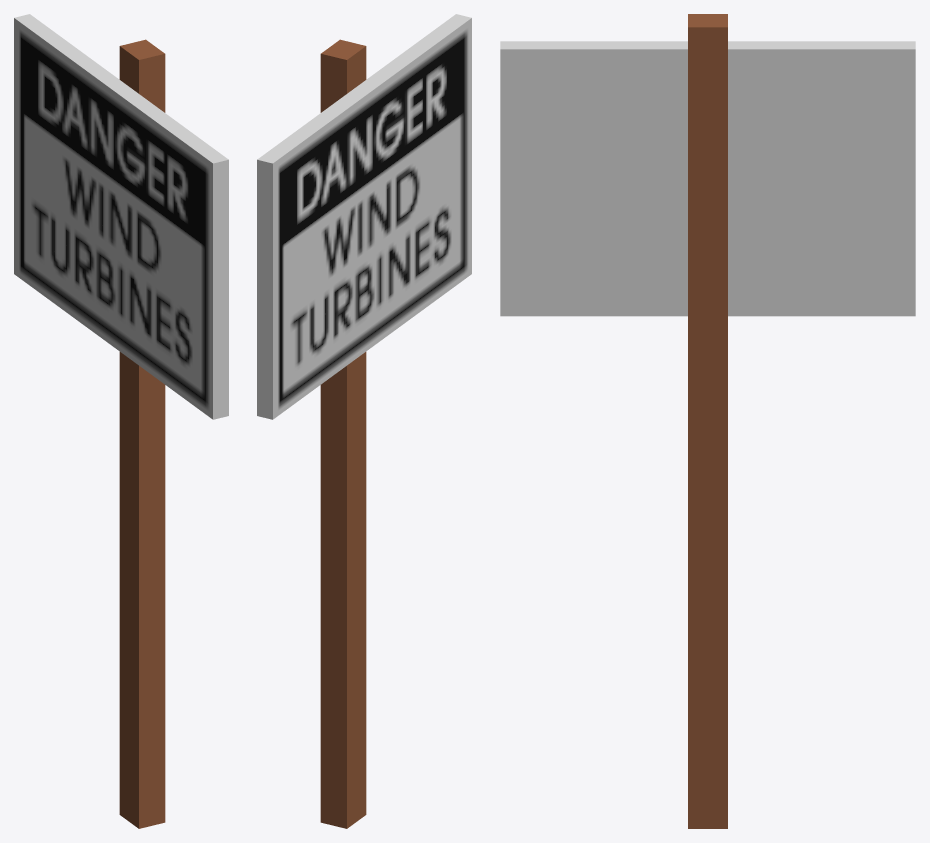
The model's file is west_zs03.FBX.
The picture shows the model from 3 angles, left to right: view 1: azimuth 30°, elevation 25°; view 2: azimuth 150°, elevation 25°; view 3: azimuth 270°, elevation 25°; orthographic projection. The views are drawn at different scales.
Parts seen in each view (by area): view 1: west_zs03; view 2: west_zs03; view 3: west_zs03.
Boxes of the visible parts, x1,y1,x2,y2 form: west_zs03: [14, 14, 228, 828]; west_zs03: [257, 14, 471, 828]; west_zs03: [500, 14, 915, 828].
Bounding box in the file's own units: 60.68 × 1063 × 499.
